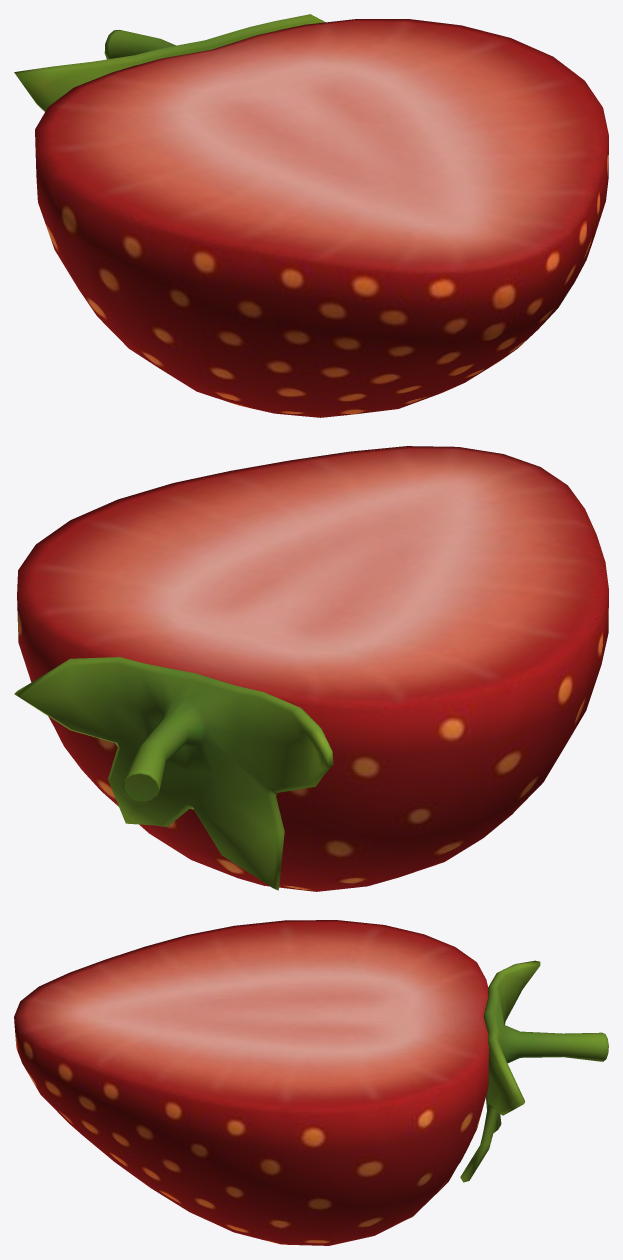
Rendered from strawberry-half.glb.
3 views of the same model, one above another, from view 1: azimuth 30°, elevation 25°; view 2: azimuth 150°, elevation 25°; view 3: azimuth 270°, elevation 25° (orthographic). The views are drawn at different scales.
Bounding box in the file's own units: 0.7708 × 0.3968 × 1.
Materials: 1 (1 with a texture image).
